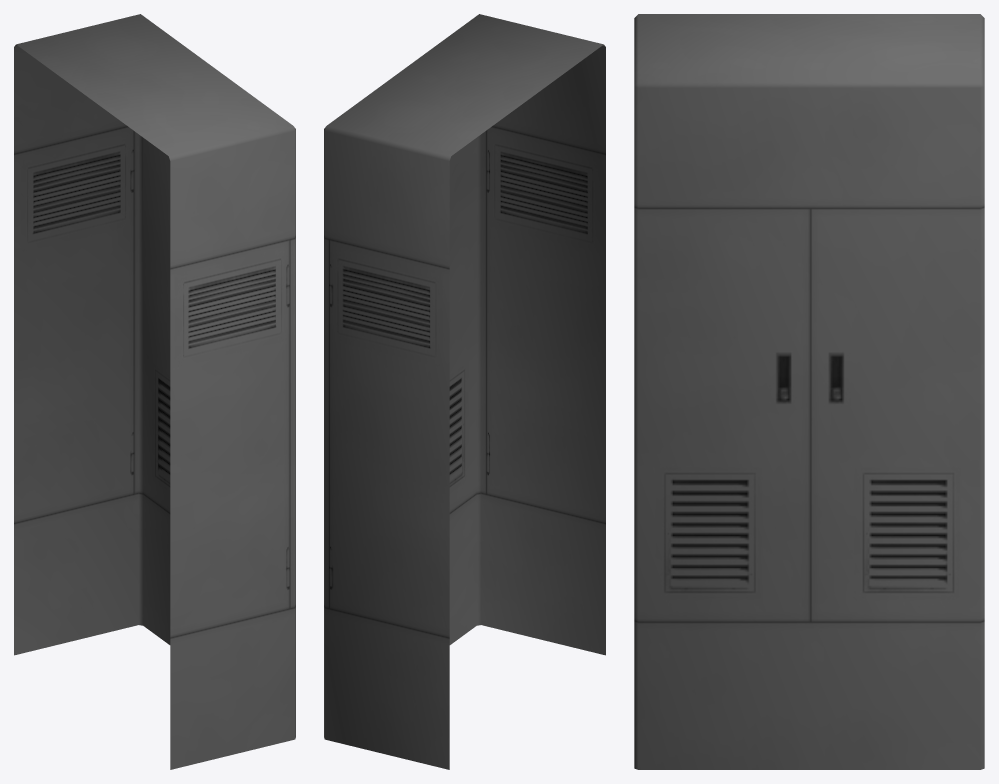
File: Electricity_Box.FBX
3 views of the same model, side by side, from view 1: azimuth 30°, elevation 25°; view 2: azimuth 150°, elevation 25°; view 3: azimuth 270°, elevation 25° (orthographic). The views are drawn at different scales.
Parts seen in each view (by area): view 1: low001; view 2: low001; view 3: low001.
Part boxes in pixels (x1,y1,x2,y2): low001: [14, 14, 295, 769]; low001: [324, 14, 605, 769]; low001: [634, 14, 984, 769].
Bounding box in the file's own units: 18.78 × 86.32 × 39.96.
